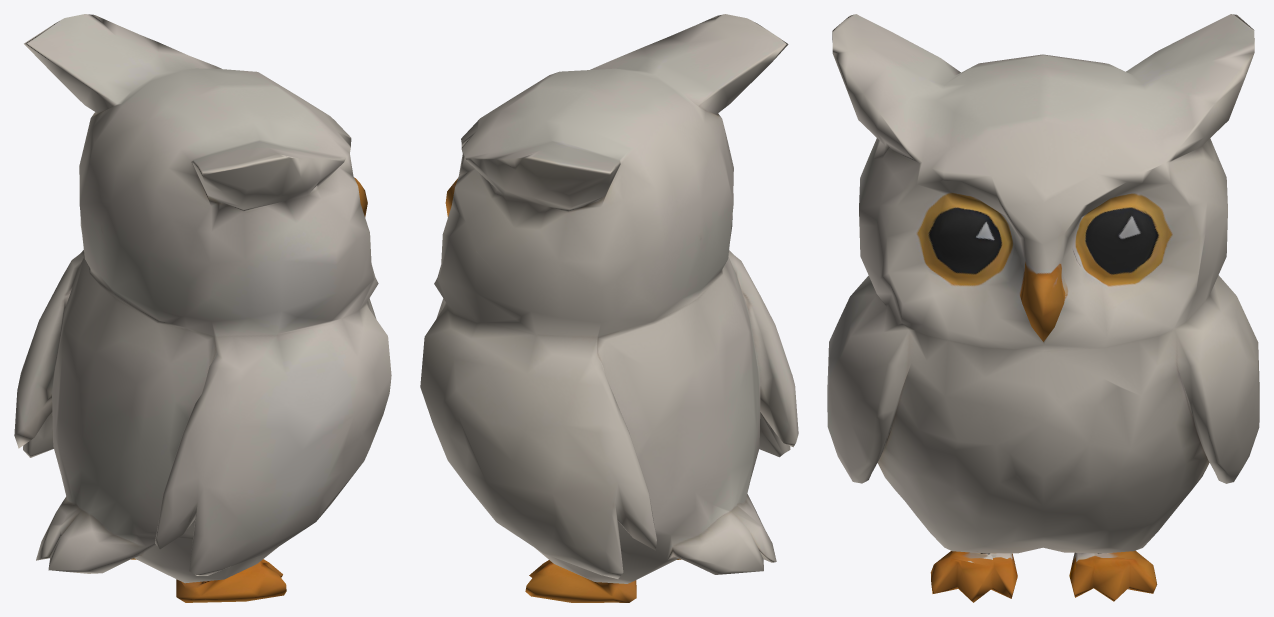
The model's file is BuhoBlanco1.glb.
The picture shows the model from 3 angles, left to right: view 1: azimuth 30°, elevation 25°; view 2: azimuth 150°, elevation 25°; view 3: azimuth 270°, elevation 25°; orthographic projection. The views are drawn at different scales.
Parts seen in each view (by area): view 1: tripo_node_5b0f1312-ab31-4adc-99c4-36d08bc76151; view 2: tripo_node_5b0f1312-ab31-4adc-99c4-36d08bc76151; view 3: tripo_node_5b0f1312-ab31-4adc-99c4-36d08bc76151.
Boxes of the visible parts, x1,y1,x2,y2 form: tripo_node_5b0f1312-ab31-4adc-99c4-36d08bc76151: (14,14,391,602); tripo_node_5b0f1312-ab31-4adc-99c4-36d08bc76151: (420,14,798,602); tripo_node_5b0f1312-ab31-4adc-99c4-36d08bc76151: (827,14,1259,602).
Size of the model in its own units: 0.7004 by 1 by 0.7461.
Materials: 1 (1 with a texture image).
